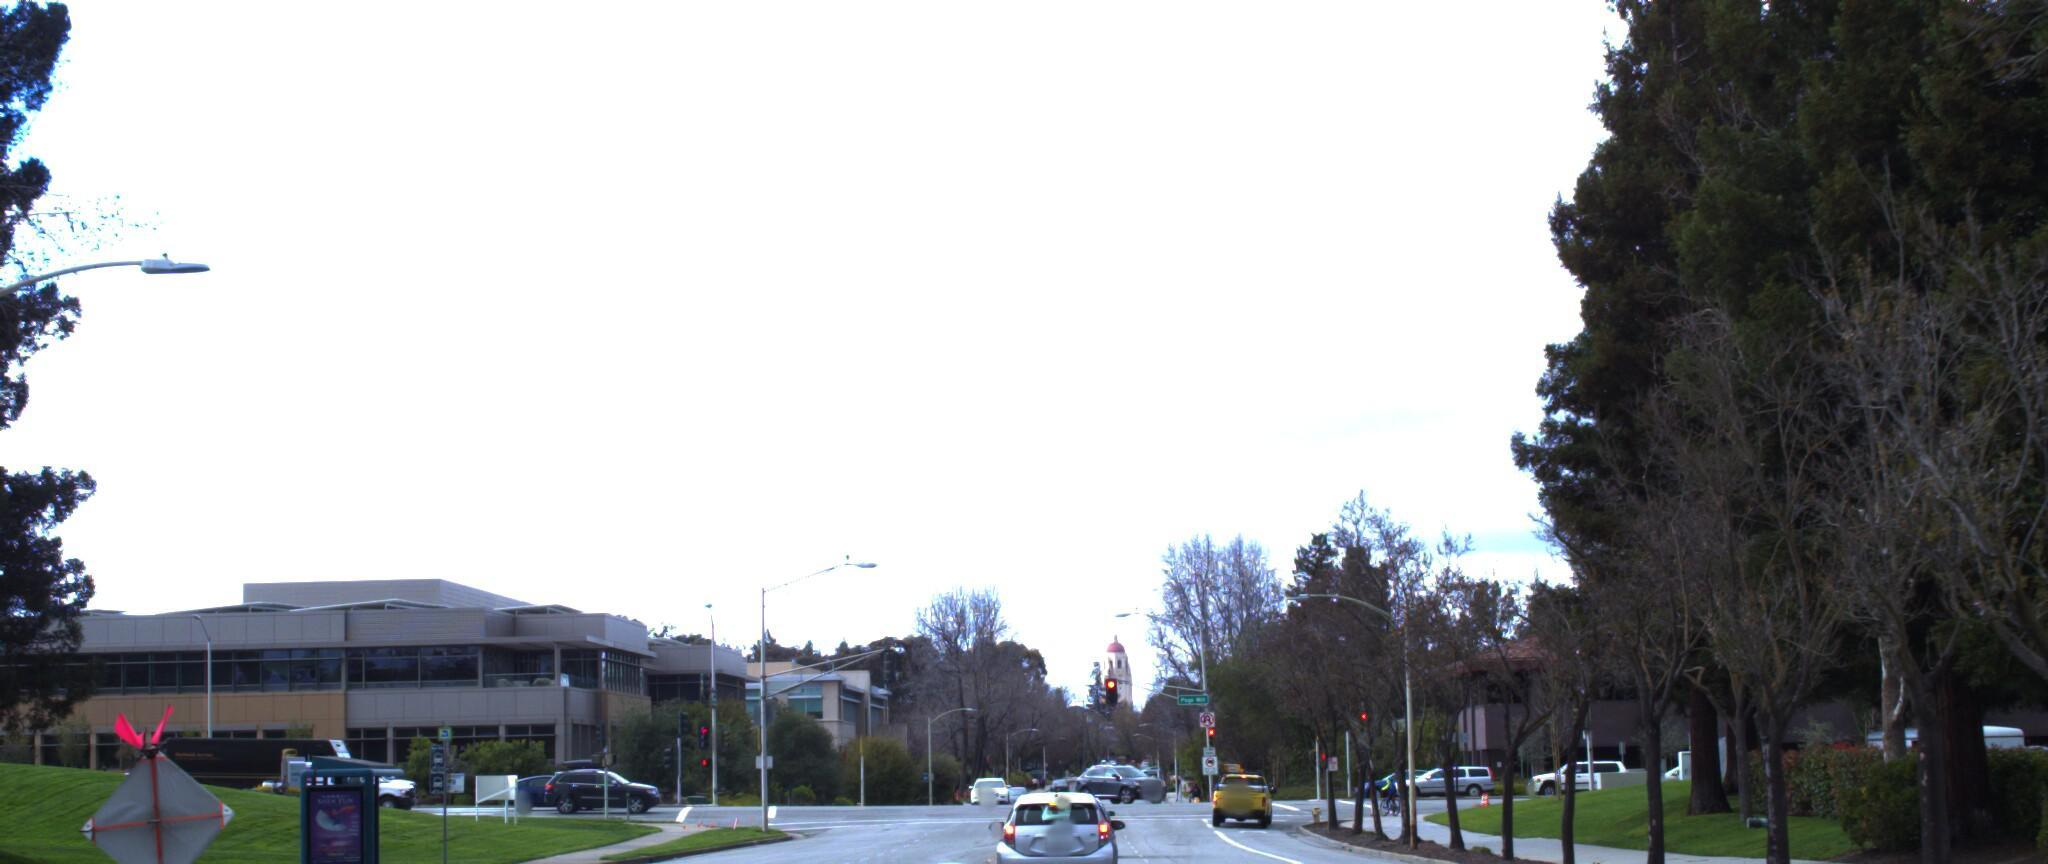car: (990, 771, 1128, 864)
